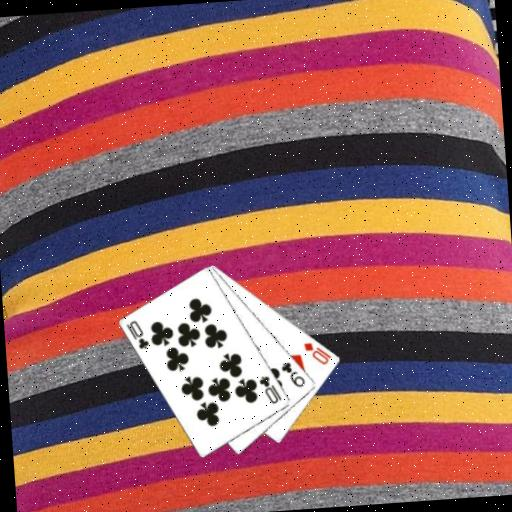10C: (123, 316, 152, 352), (256, 372, 284, 406)
10D: (301, 338, 334, 368)
9C: (278, 358, 308, 391)
